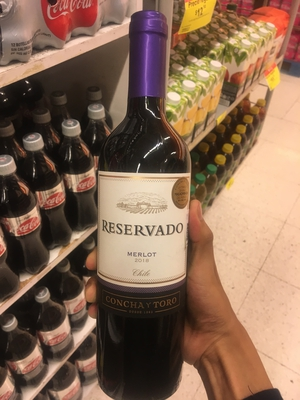reservado merlot: (86, 18, 213, 400)
